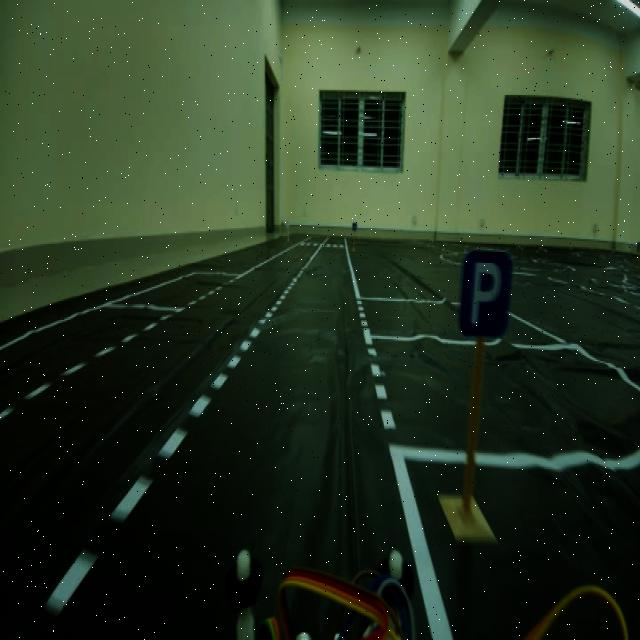parking: (456, 236, 518, 339)
